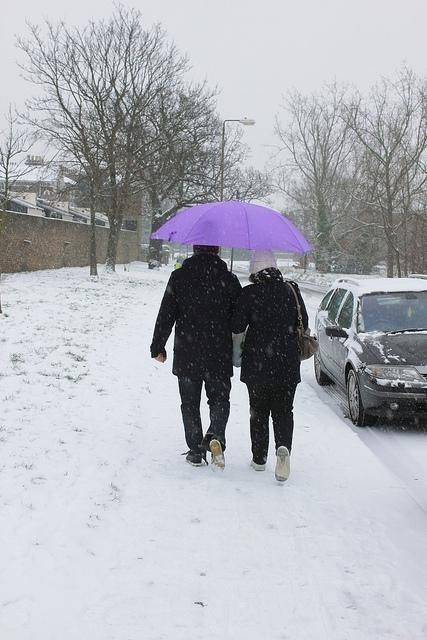car: (311, 273, 427, 429)
